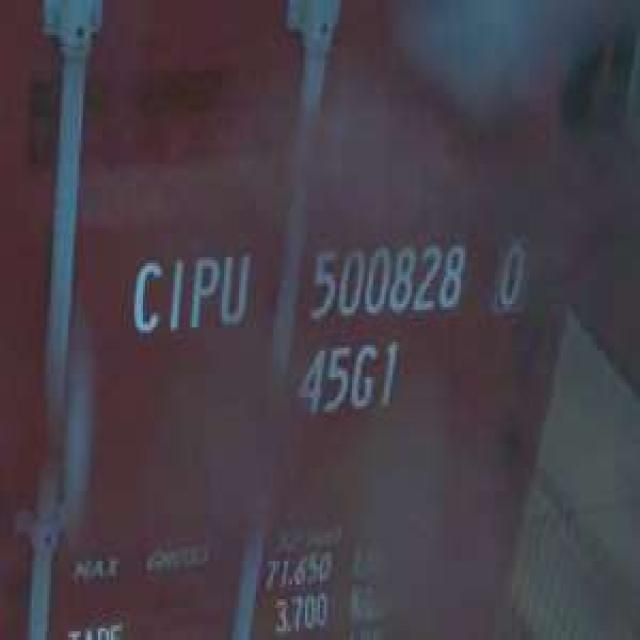dv: (488, 228, 534, 318)
owner: (124, 240, 254, 342)
serial: (301, 234, 469, 324)
size: (292, 333, 403, 421)
